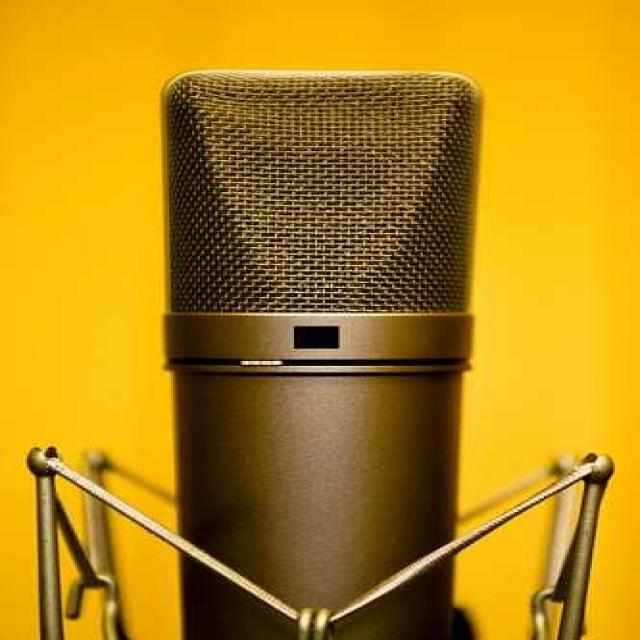microphone: (169, 72, 478, 632)
